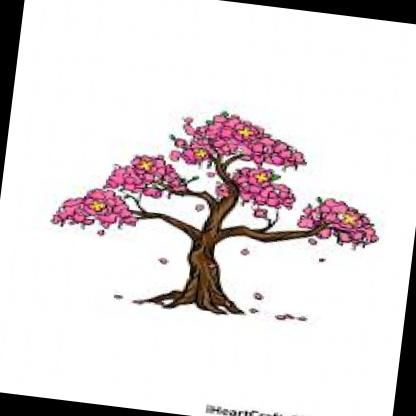branch_sharp: (110, 134, 335, 258)
crown_cloud: (57, 86, 392, 262)
root_only: (132, 281, 252, 327)
trunk_bark: (180, 248, 228, 286)
